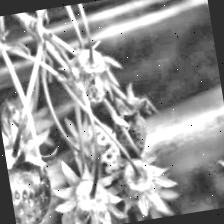Gray Mold: (97, 79, 165, 163)
